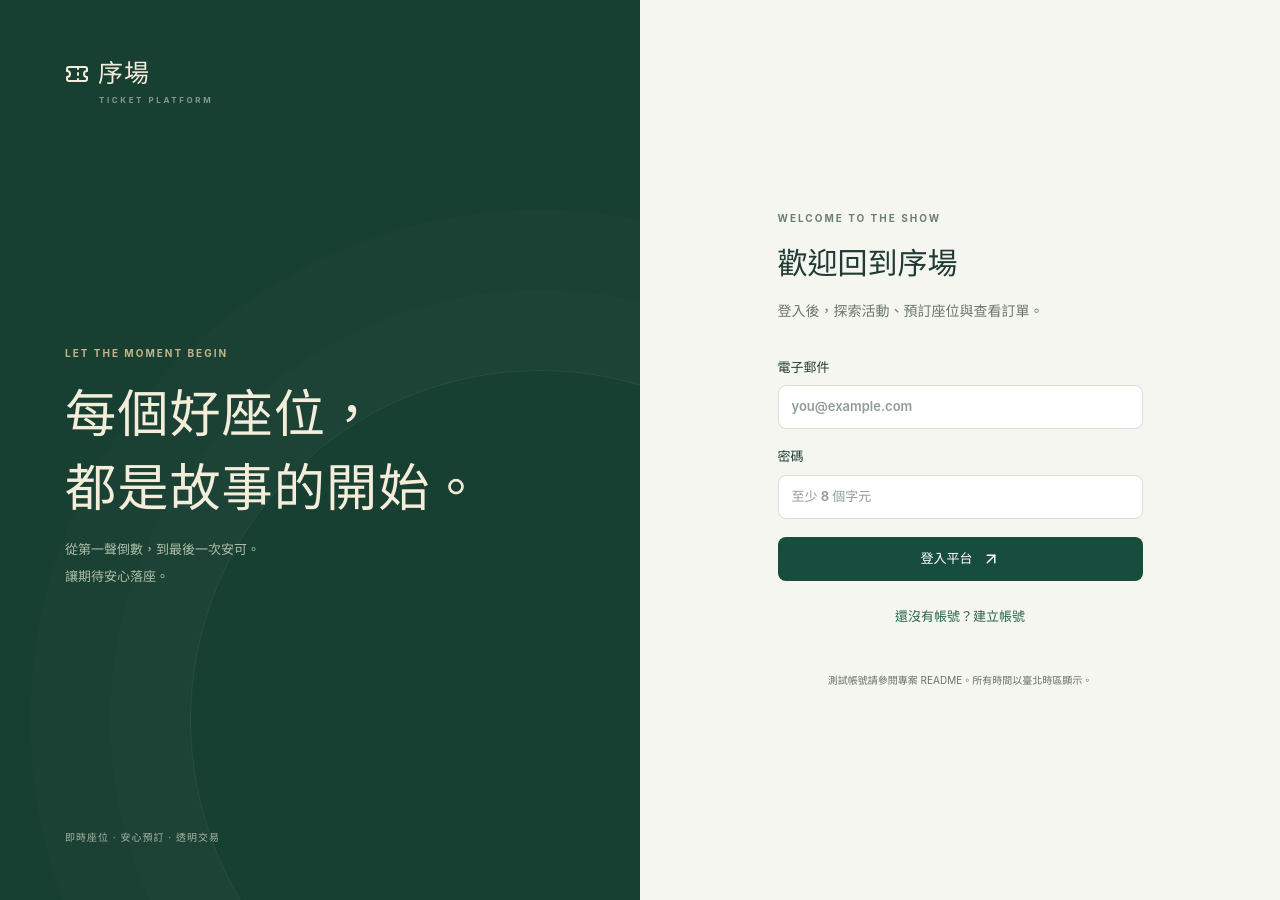
it: 購票平台公開介面 › 登入後讓 Viewer 瀏覽活動，但不提供建立活動操作
Type "viewer@example.test" into the field labelled "電子郵件" at (960, 407), box left=778, top=385, right=1142, bottom=429
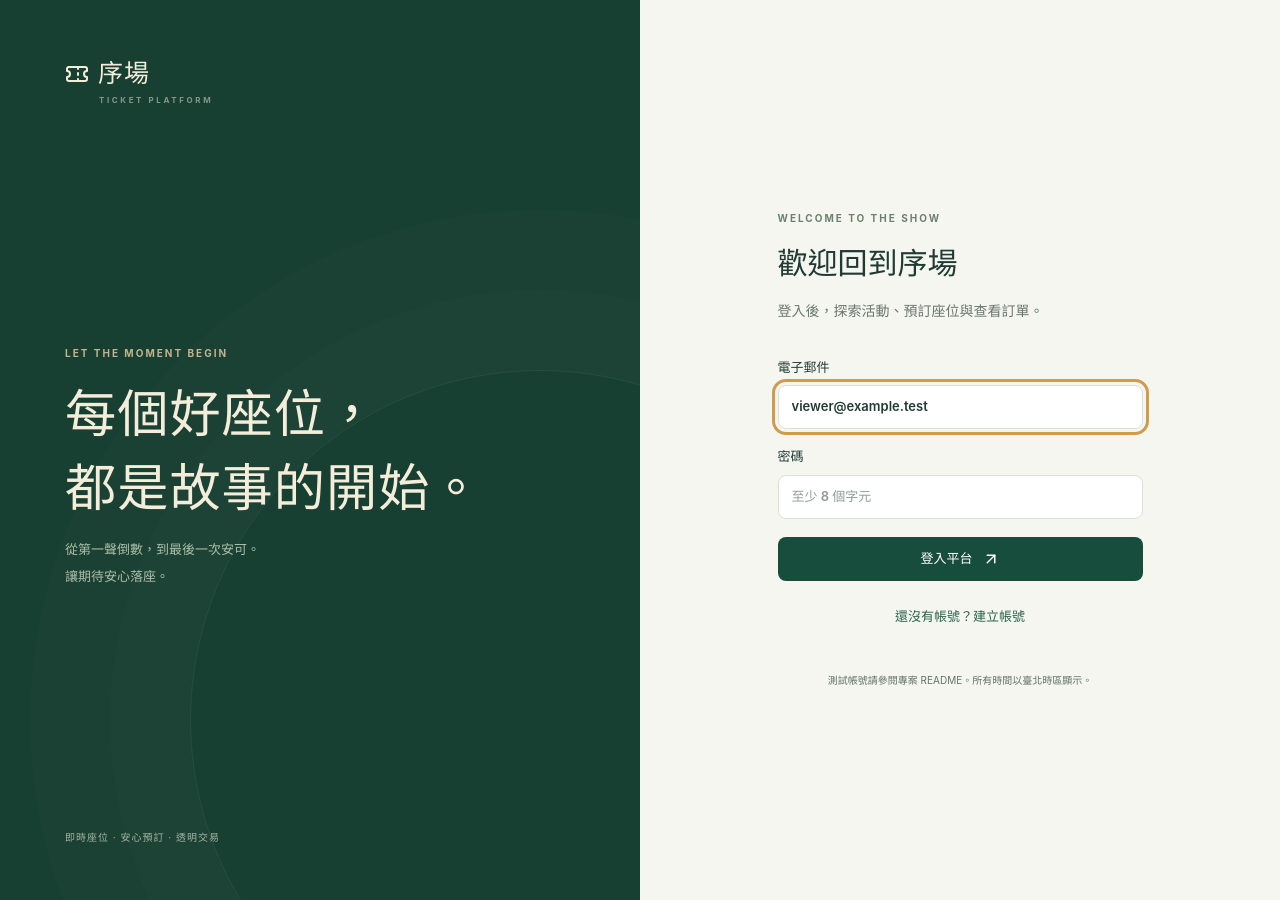
Type "password123" into the password field labelled "密碼" at (960, 497), box left=778, top=475, right=1142, bottom=519
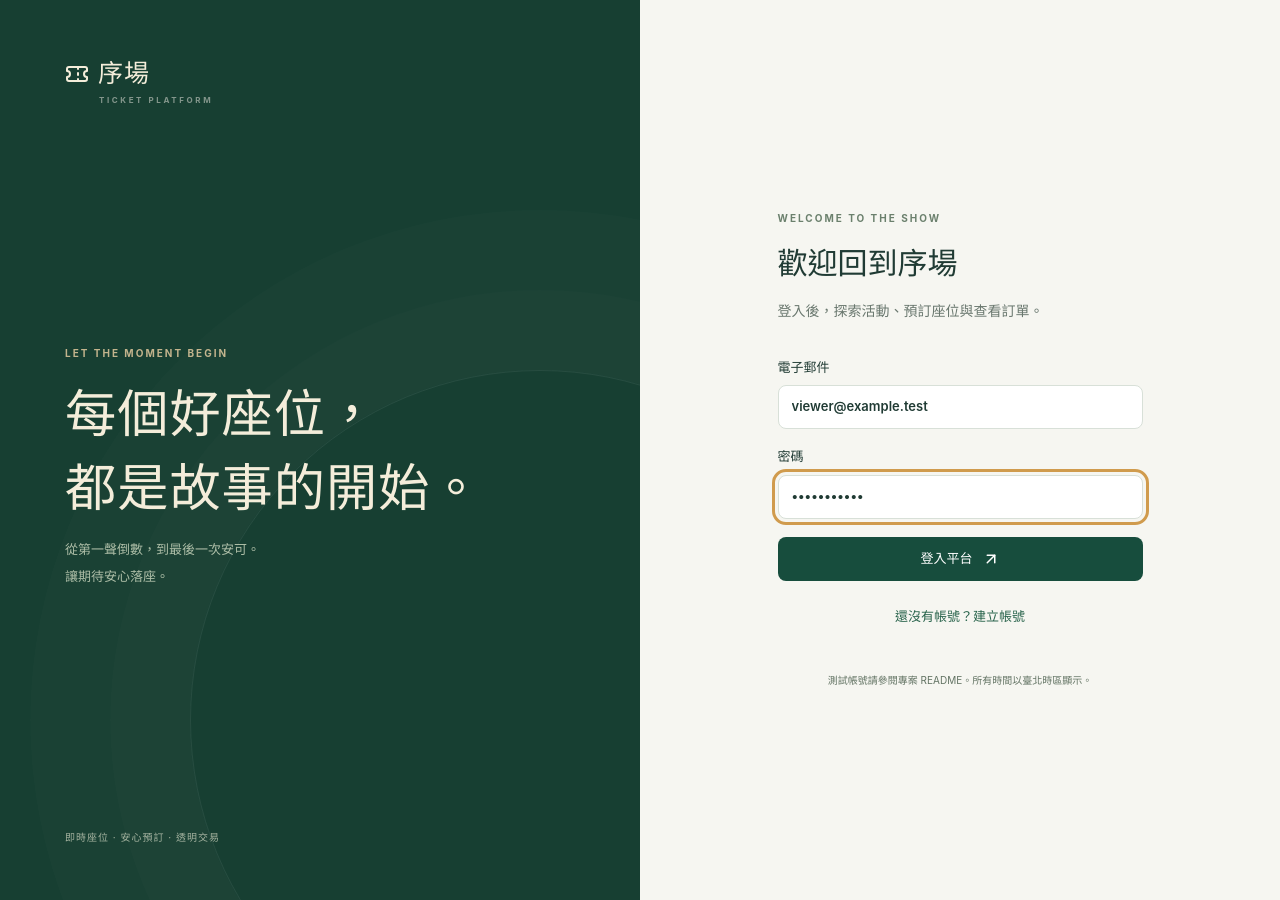
Click the button "登入平台" at (960, 559), box left=778, top=537, right=1142, bottom=581
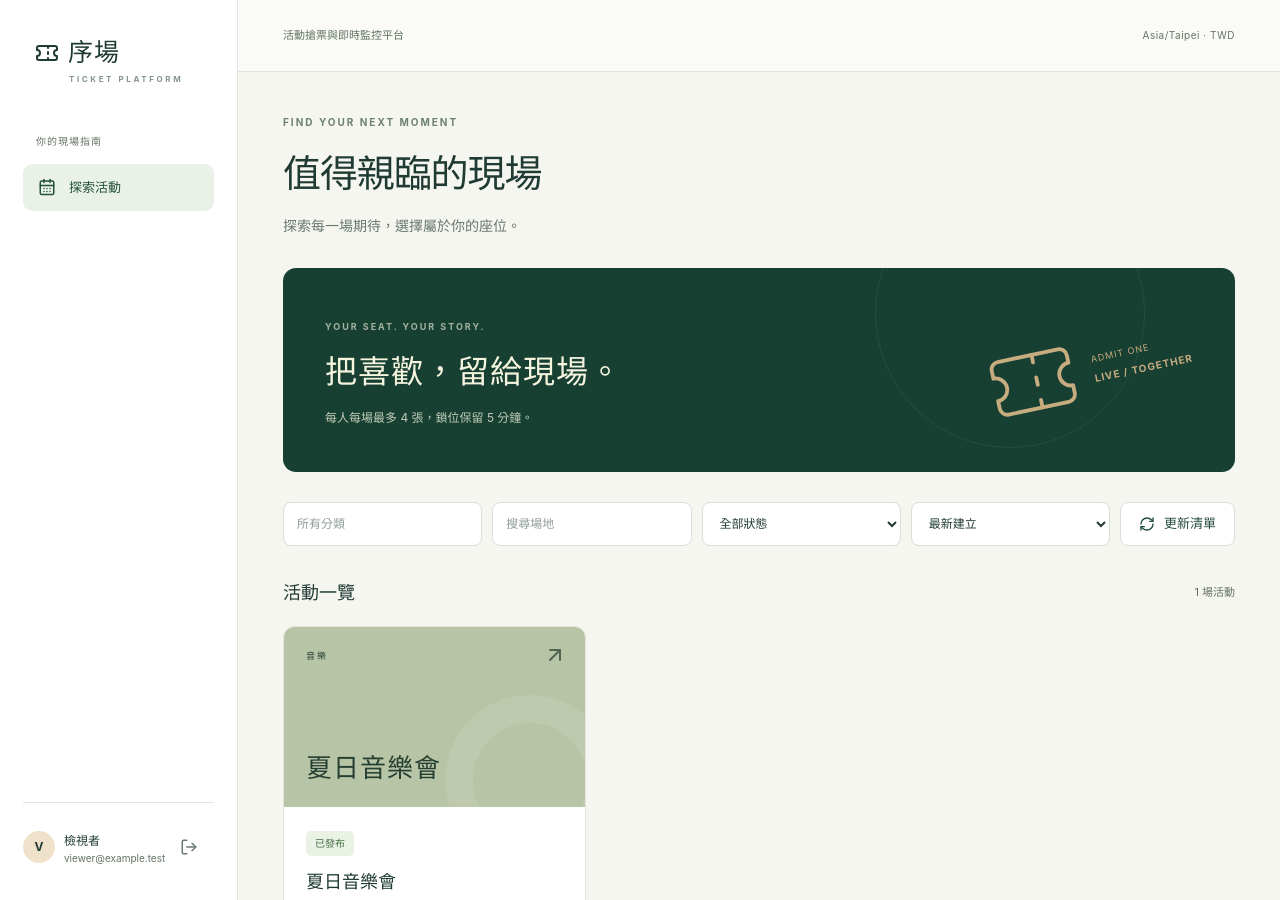
Check: the heading "夏日音樂會" is shown, box left=306, top=871, right=396, bottom=892
Check: the text "檢視者" is shown, box left=64, top=833, right=100, bottom=848
